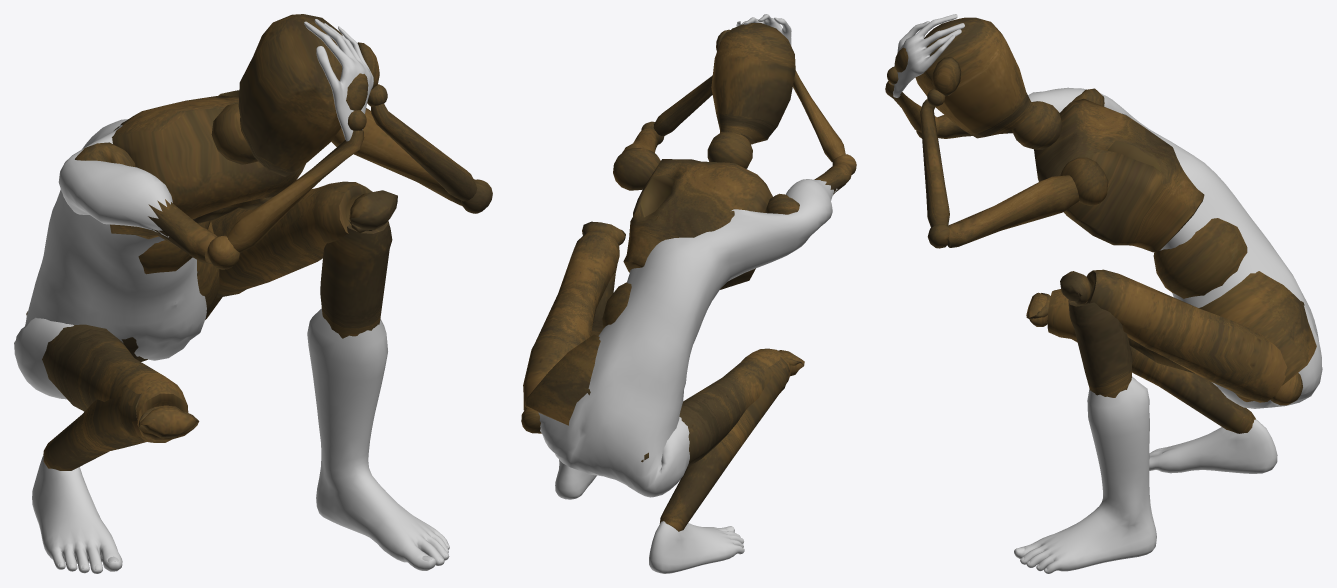
The model's file is enemigo1_pose3.fbx.
3 views of the same model, side by side, from view 1: azimuth 30°, elevation 25°; view 2: azimuth 150°, elevation 25°; view 3: azimuth 270°, elevation 25° (orthographic). The views are drawn at different scales.
Parts seen in each view (by area): view 1: dummy_obj.003, Body.004; view 2: dummy_obj.003, Body.004; view 3: dummy_obj.003, Body.004.
Part boxes in pixels (<box>): dummy_obj.003: <box>26,14,492,470</box>; Body.004: <box>14,19,449,573</box>; dummy_obj.003: <box>521,23,856,531</box>; Body.004: <box>538,14,837,573</box>; dummy_obj.003: <box>885,17,1316,433</box>; Body.004: <box>891,14,1322,573</box>.
Size of the model in its own units: 53.47 by 87.38 by 71.5.
